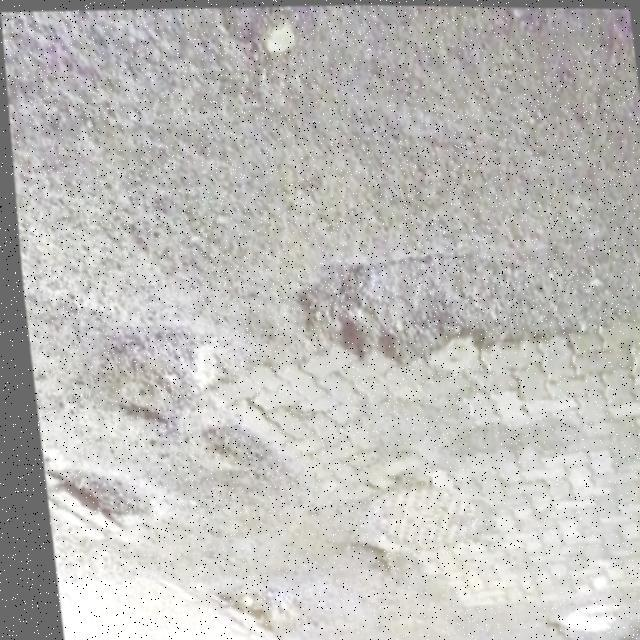pothole: (283, 242, 623, 374), (90, 328, 229, 420), (36, 456, 150, 531), (203, 579, 303, 640)
